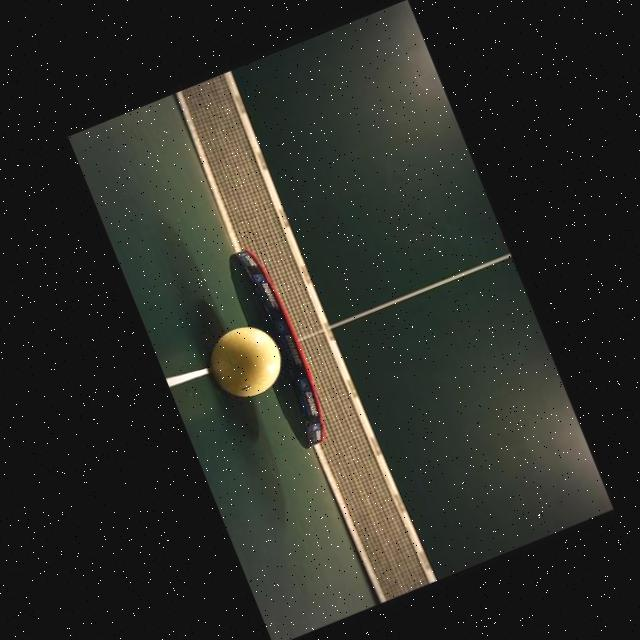ping-pong-ball: (199, 314, 291, 407)
